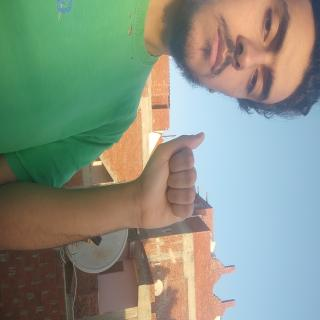DAD: (94, 148, 179, 248)
